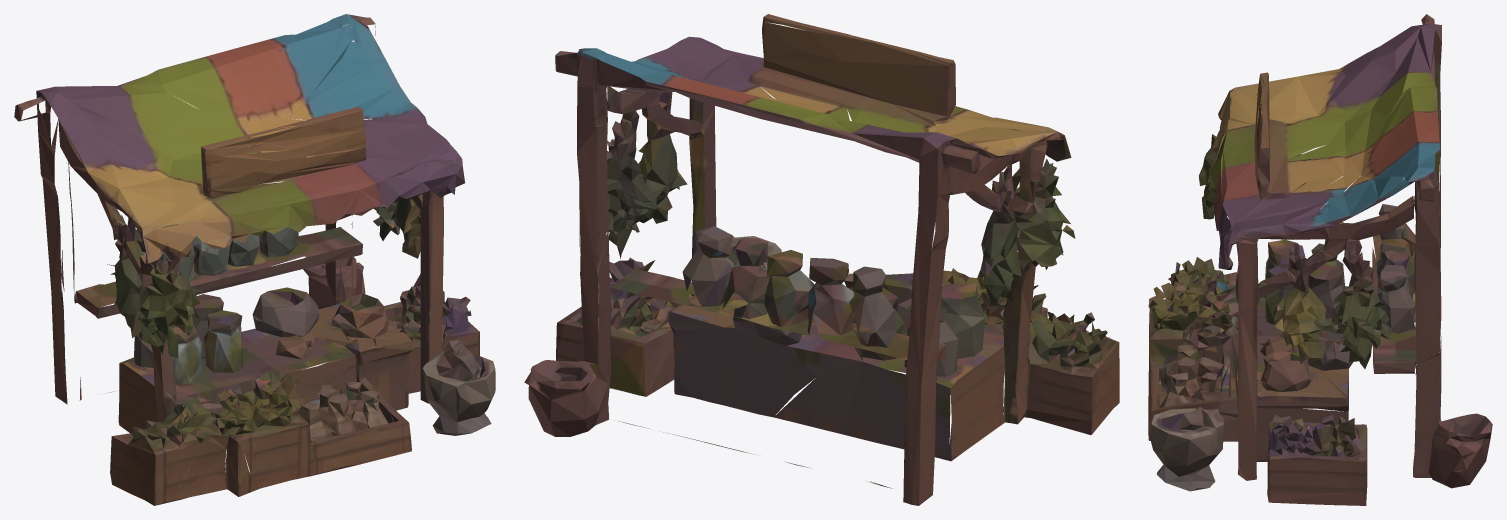
File: stall_herbs.glb
3 renders of one model, left to right at view 1: azimuth 30°, elevation 25°; view 2: azimuth 150°, elevation 25°; view 3: azimuth 270°, elevation 25°, orthographic. The views are drawn at different scales.
Parts seen in each view (by area): view 1: geometry_0; view 2: geometry_0; view 3: geometry_0.
Boxes of the visible parts, x1,y1,x2,y2 form: geometry_0: (14,14,495,505); geometry_0: (524,14,1119,505); geometry_0: (1148,14,1492,505).
Bounding box in the file's own units: 2.1 × 1.64 × 1.62.
Materials: 1 (1 with a texture image).
